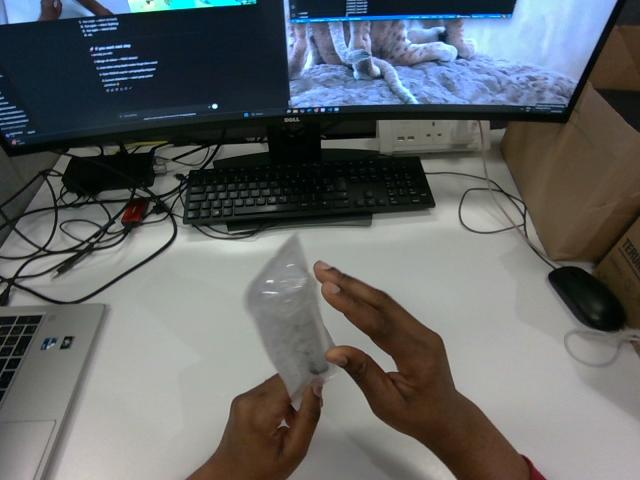syringe: (246, 235, 334, 404)
